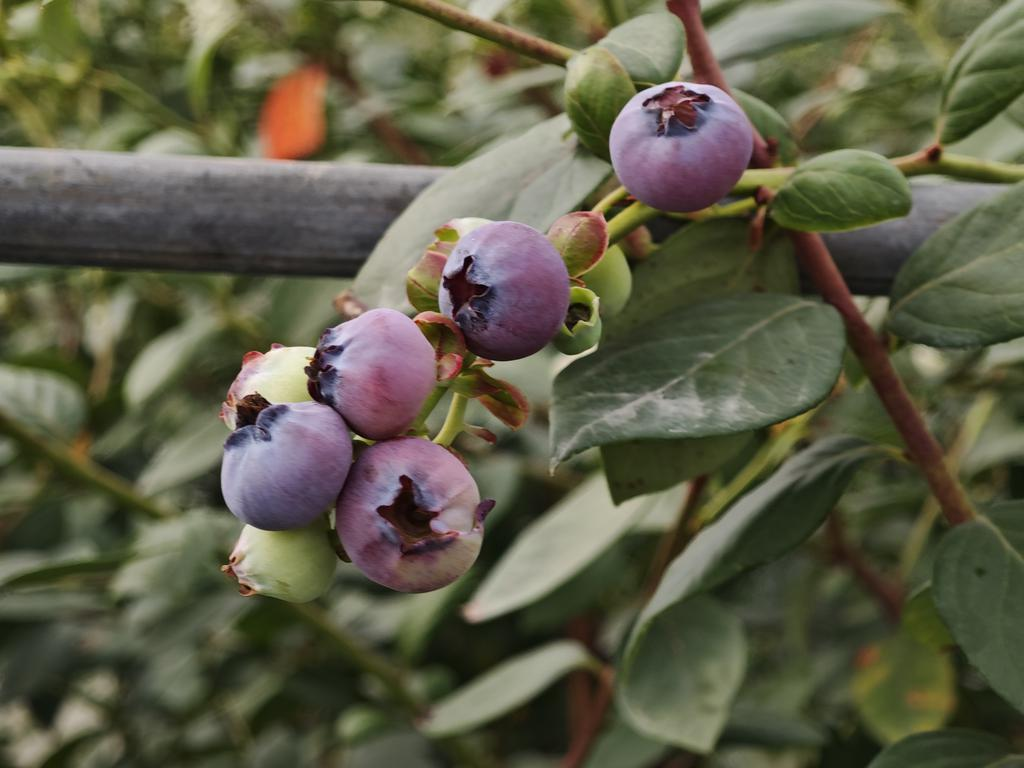RipeBlueBerry: (217, 396, 353, 530)
Semi-RipeBlueBerry: (339, 437, 488, 595), (605, 78, 757, 213), (438, 220, 571, 363), (304, 305, 440, 437)
